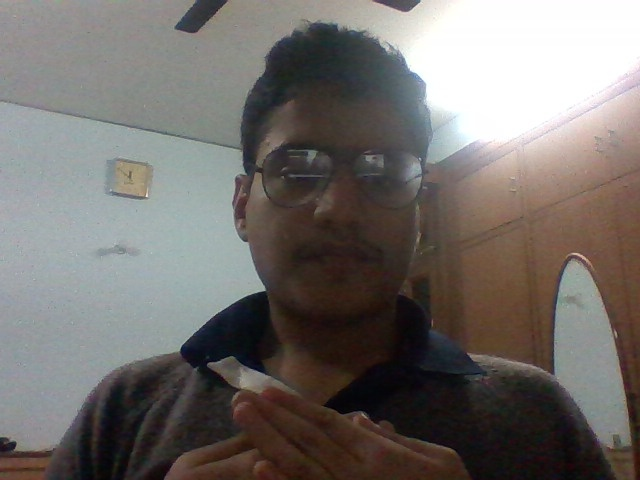Love: (176, 378, 473, 480)
